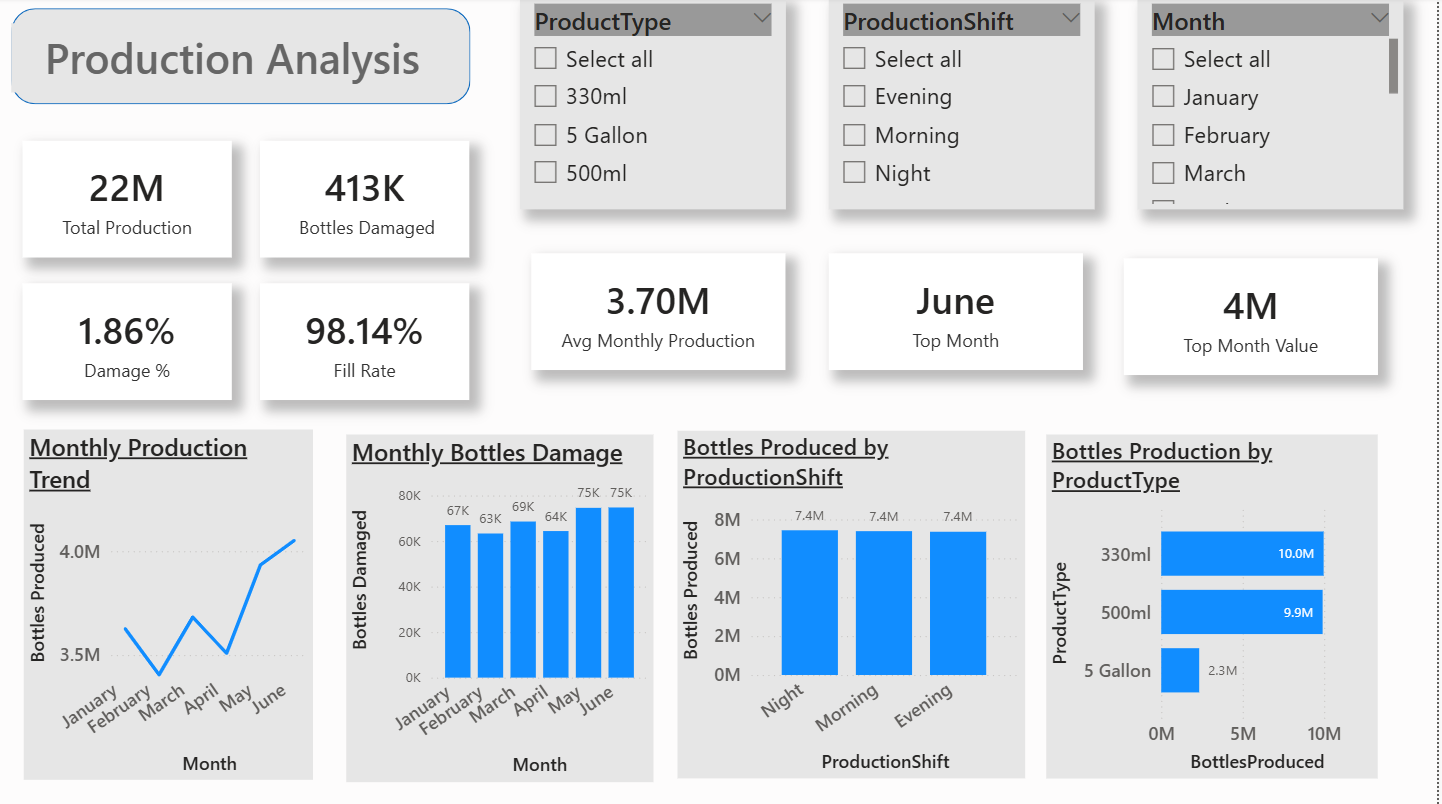

Layout of this report page (visuals, bound fields, positions):
{"tool":"powerbi","page":{"name":"Production Analysis","canvas":[1280,720],"ordinal":1},"visuals":[{"type":"shape","box":[10,10,409.1,85.5],"z":1000},{"type":"textbox","box":[9.6,23.3,393.8,61.7],"z":2000},{"type":"slicer","fields":{"Values":["Rawda_procudtion_sales.ProductionShift"]},"box":[738.4,1.4,236.6,188.2],"z":3000},{"type":"slicer","fields":{"Values":["Rawda_procudtion_sales.ProductType"]},"box":[463.3,1.4,236.6,188.2],"z":4000},{"type":"card","fields":{"Values":["Sum(Rawda_procudtion_sales.BottlesProduced)"]},"box":[20.6,127.6,186.6,104.3],"z":5000},{"type":"card","fields":{"Values":["Sum(Rawda_procudtion_sales.BottlesDamaged)"]},"box":[231.9,127.6,186.6,104.3],"z":6000},{"type":"card","fields":{"Values":["Rawda_procudtion_sales.Damage %"]},"box":[20.6,255.2,186.6,104.3],"z":7000},{"type":"card","fields":{"Values":["Rawda_procudtion_sales.Fill Rate"]},"box":[231.9,255.2,186.6,104.3],"z":8000},{"type":"lineChart","title":"Monthly Production Trend","fields":{"Category":["Rawda_procudtion_sales.DateFinal.Variation.Date Hierarchy.Month"],"Y":["Sum(Rawda_procudtion_sales.BottlesProduced)"]},"box":[21.4,384.9,258,312.2],"z":9000},{"type":"clusteredColumnChart","title":"Monthly Bottles Damage","fields":{"Category":["Rawda_procudtion_sales.DateFinal.Variation.Date Hierarchy.Month"],"Y":["Sum(Rawda_procudtion_sales.BottlesDamaged)"]},"box":[307.9,389.1,273.7,309.3],"z":10000},{"type":"clusteredColumnChart","fields":{"Category":["Rawda_procudtion_sales.ProductionShift"],"Y":["Sum(Rawda_procudtion_sales.BottlesProduced)"]},"box":[602.9,386.3,309.3,309.3],"z":11000},{"type":"clusteredBarChart","title":"Bottles Production by ProductType","fields":{"Category":["Rawda_procudtion_sales.ProductType"],"Y":["Sum(Rawda_procudtion_sales.BottlesProduced)"]},"box":[932.2,389.1,295.1,306.5],"z":12000},{"type":"slicer","fields":{"Values":["Rawda_procudtion_sales.DateFinal.Variation.Date Hierarchy.Month"]},"box":[1013.5,1.4,236.6,188.2],"z":13000},{"type":"card","fields":{"Values":["Rawda_procudtion_sales.Avg Monthly Production"]},"box":[473.2,228.1,226.6,104.1],"z":14000},{"type":"card","fields":{"Values":["Rawda_procudtion_sales.Top Month"]},"box":[738.4,228.1,226.6,104.1],"z":15000},{"type":"card","fields":{"Values":["Rawda_procudtion_sales.Top Month Value"]},"box":[1000.6,232.3,226.6,104.1],"z":16000}]}

Visuals, with their boxes in screenshot pixels (x1, y1, x2, y2), scaled from the page's 1280x720 canvas onto the 1442x804 screenshot:
shape: box(11, 11, 472, 107)
textbox: box(11, 26, 454, 95)
slicer - Rawda_procudtion_sales.ProductionShift: box(832, 2, 1098, 212)
slicer - Rawda_procudtion_sales.ProductType: box(522, 2, 788, 212)
card - Sum(Rawda_procudtion_sales.BottlesProduced): box(23, 142, 233, 259)
card - Sum(Rawda_procudtion_sales.BottlesDamaged): box(261, 142, 471, 259)
card - Rawda_procudtion_sales.Damage %: box(23, 285, 233, 401)
card - Rawda_procudtion_sales.Fill Rate: box(261, 285, 471, 401)
"Monthly Production Trend" lineChart: box(24, 430, 315, 778)
"Monthly Bottles Damage" clusteredColumnChart: box(347, 434, 655, 780)
clusteredColumnChart - Rawda_procudtion_sales.ProductionShift x Sum(Rawda_procudtion_sales.BottlesProduced): box(679, 431, 1028, 777)
"Bottles Production by ProductType" clusteredBarChart: box(1050, 434, 1383, 777)
slicer - Rawda_procudtion_sales.DateFinal.Variation.Date Hierarchy.Month: box(1142, 2, 1408, 212)
card - Rawda_procudtion_sales.Avg Monthly Production: box(533, 255, 788, 371)
card - Rawda_procudtion_sales.Top Month: box(832, 255, 1087, 371)
card - Rawda_procudtion_sales.Top Month Value: box(1127, 259, 1383, 376)
